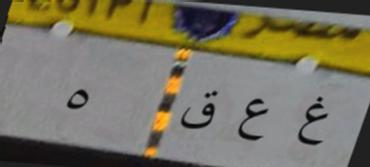5: (58, 78, 96, 123)
ain: (234, 88, 276, 147)
ghayn: (292, 86, 332, 152)
qaaf: (182, 82, 222, 136)
